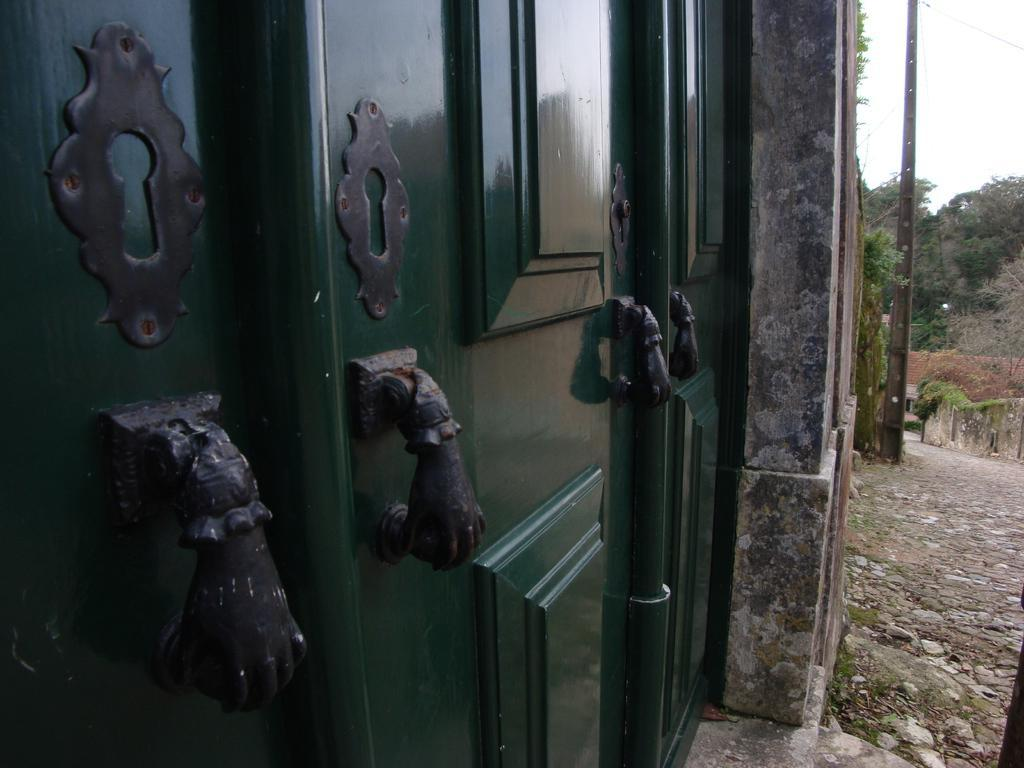door: (285, 0, 642, 768), (0, 0, 264, 768), (656, 0, 750, 752)
handle: (152, 486, 270, 712), (390, 397, 476, 574), (610, 306, 668, 414), (670, 296, 702, 402)
